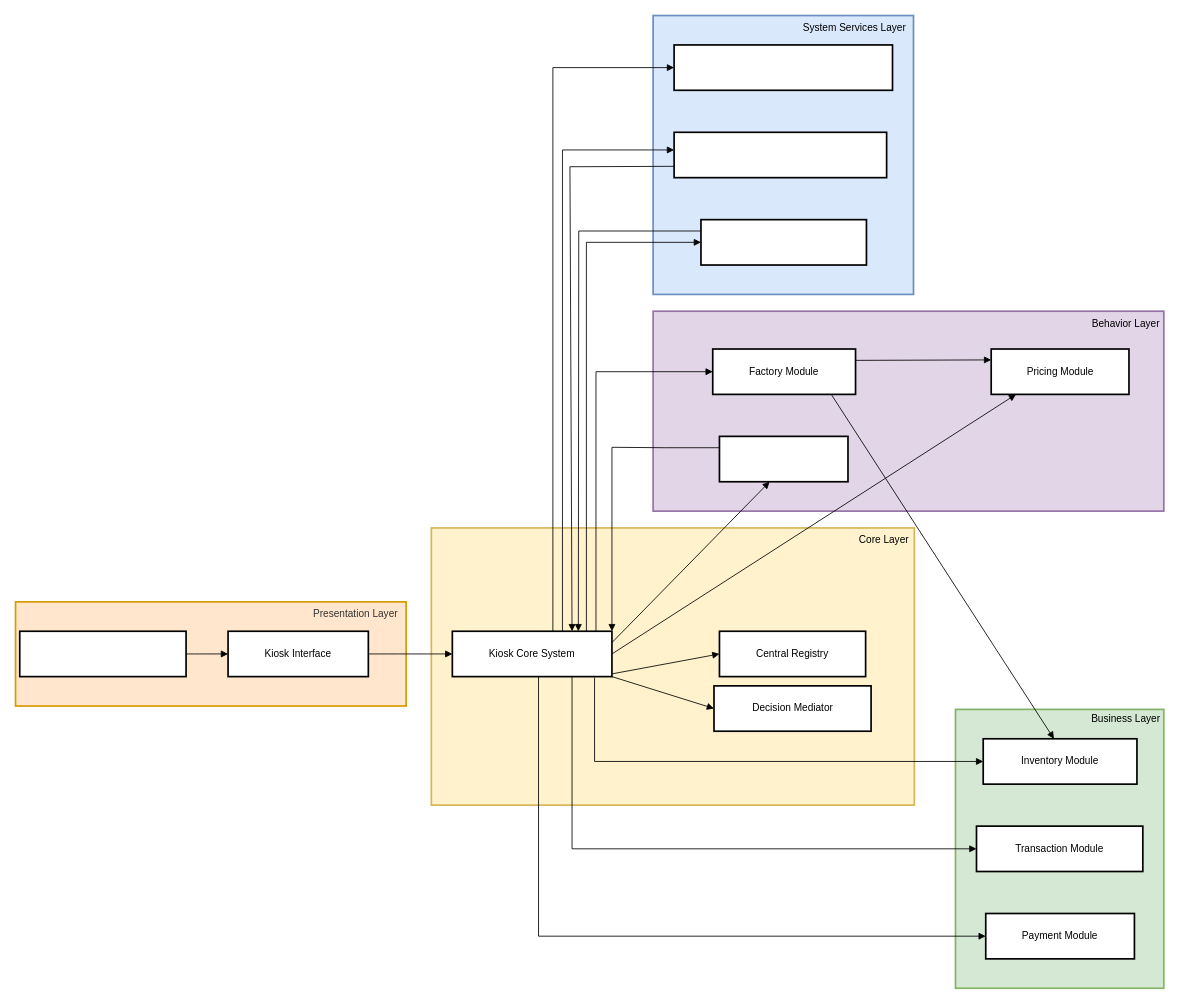
The diagram is 1179 pixels wide and 1003 high, and some of its shapes have lost their labels. Each missing label, with the centre of its shape:
"Event & Monitoring Module" belongs at (x=780, y=154).
"Frontend / Console" belongs at (x=102, y=653).
"Hardware & Recovery Module" belongs at (x=783, y=67).
"Persistence Module" belongs at (x=783, y=241).
"State Module" belongs at (x=783, y=458).
